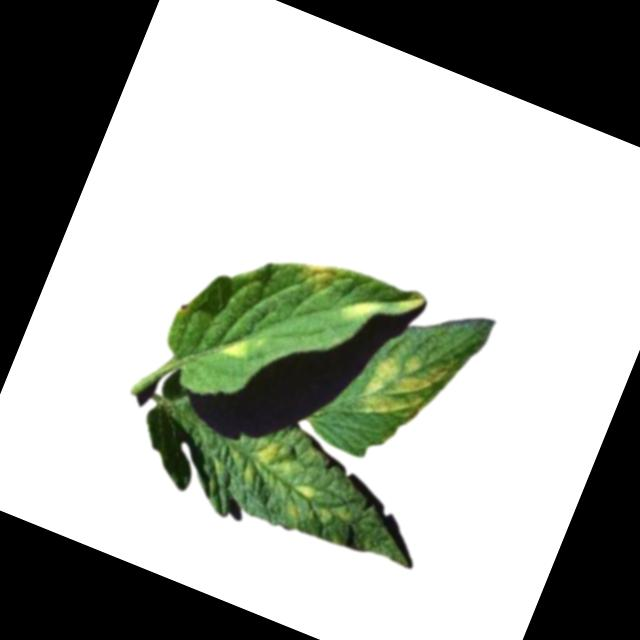Leaf_Mold: (231, 434, 367, 540), (358, 339, 452, 434), (291, 253, 338, 298), (218, 327, 256, 364), (339, 289, 375, 325)
